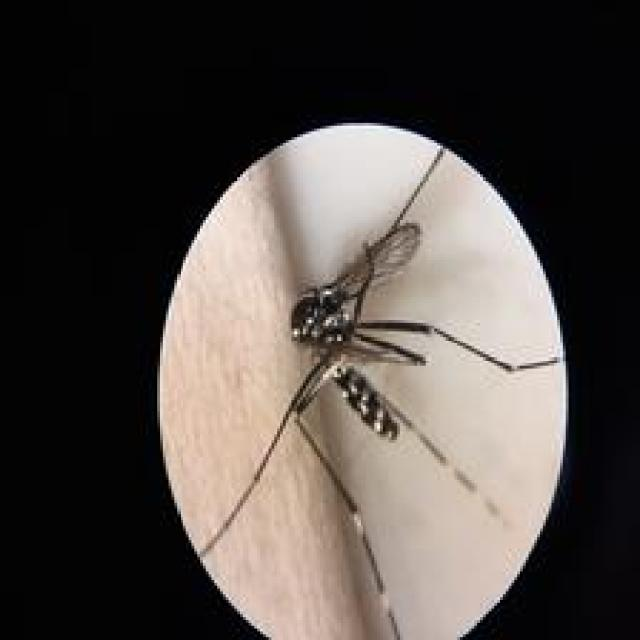Aedes albopictus: (186, 142, 563, 638)
